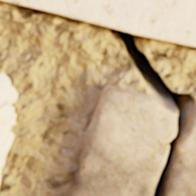brick: (5, 0, 195, 45), (0, 73, 17, 182)
broken_brick: (67, 84, 176, 195), (164, 103, 195, 195)
crack: (0, 0, 194, 195), (157, 38, 195, 47)
